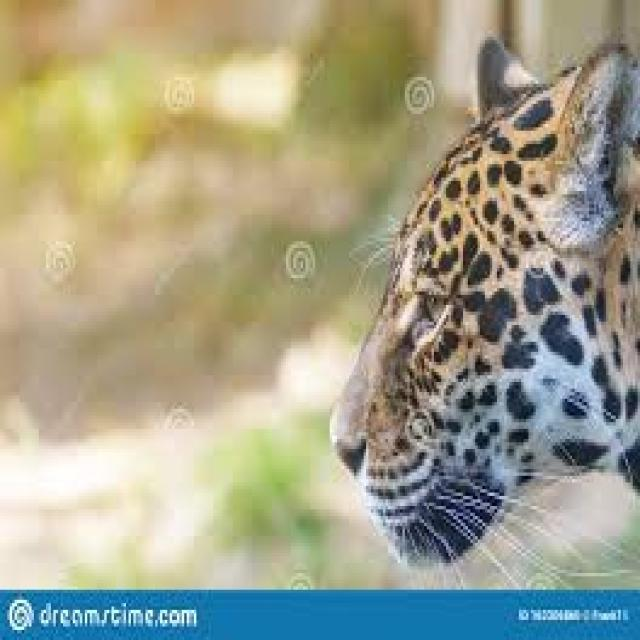Jaguar: (322, 47, 640, 563)
